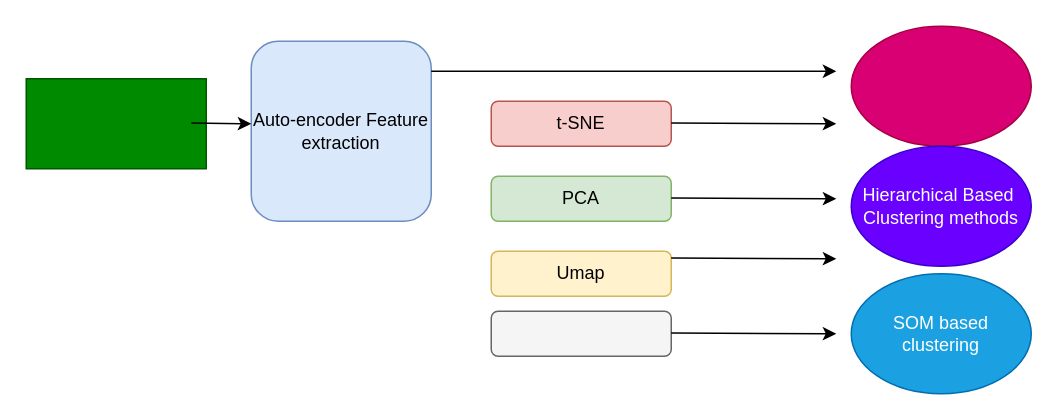
Image size: 1058x420. Some labels were removed from this diagram. Here are the shapes that lost their labels. From the top down, the box of each, then its label:
(850, 25, 1031, 146): Density Based Clustering methods
(25, 77, 206, 169): Image Database
(490, 310, 671, 356): PCA+t-SNE
